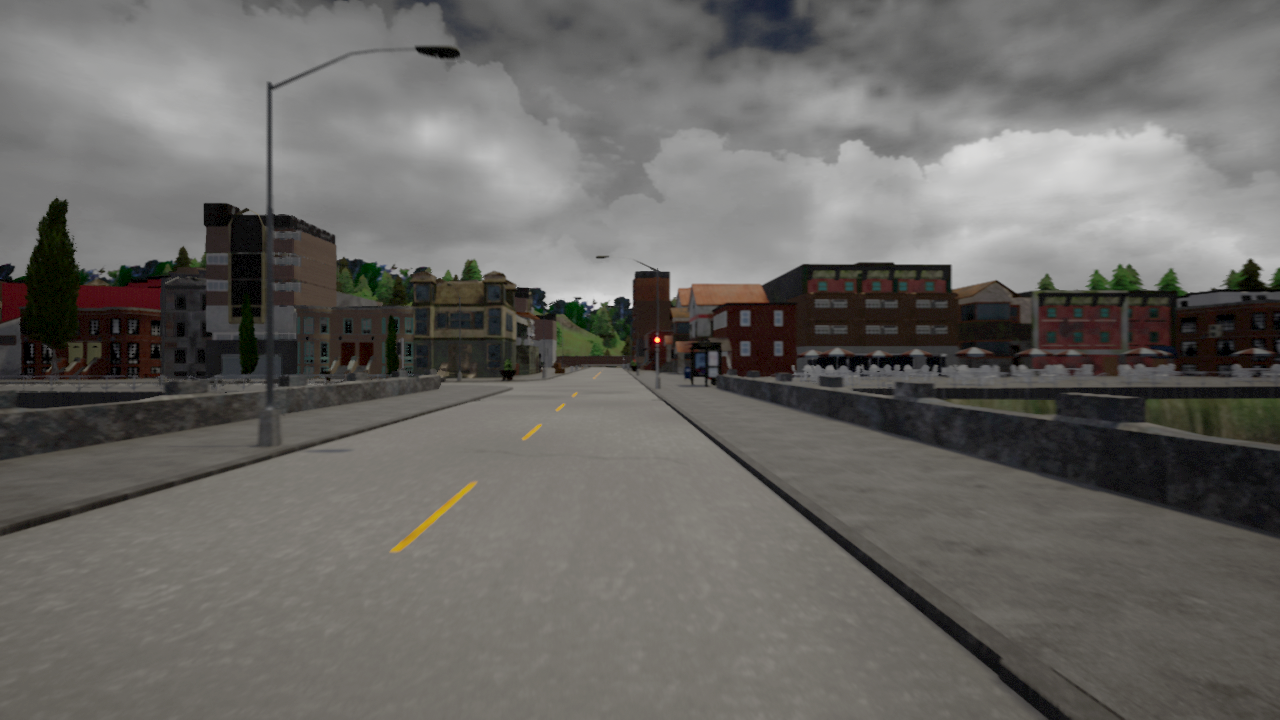red: (653, 336, 661, 352)
